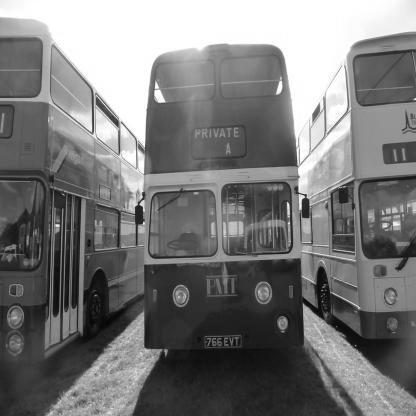bus: (130, 35, 333, 377), (4, 10, 149, 387), (300, 28, 416, 347)
